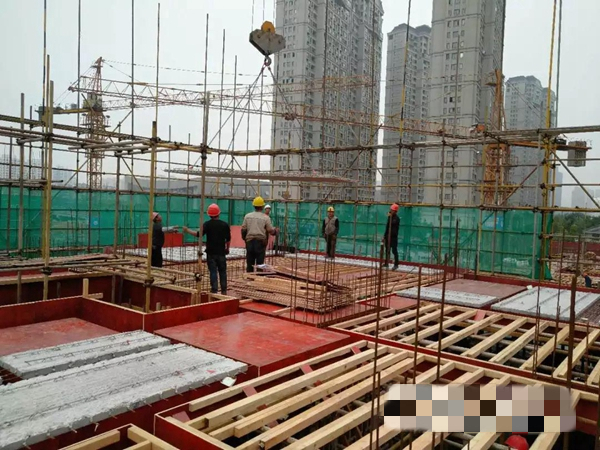helmet: (207, 203, 220, 216), (253, 197, 264, 206), (151, 213, 158, 220), (327, 206, 335, 212), (391, 204, 399, 210), (266, 204, 271, 208)
person: (182, 202, 231, 297), (240, 196, 272, 274), (382, 203, 402, 270), (323, 205, 340, 260), (151, 212, 165, 267), (265, 204, 272, 216)
